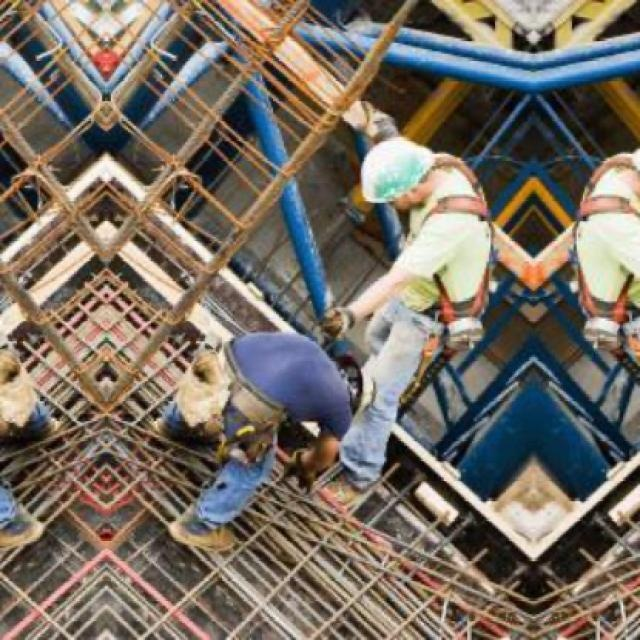Arnes_seguridad: (412, 156, 495, 355), (171, 343, 287, 463), (573, 153, 640, 358)
